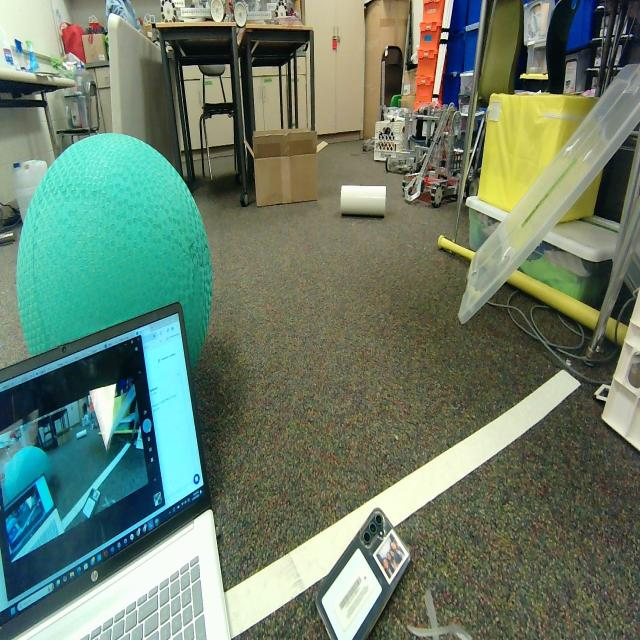algae: (16, 133, 219, 294)
coral: (341, 186, 386, 218)
